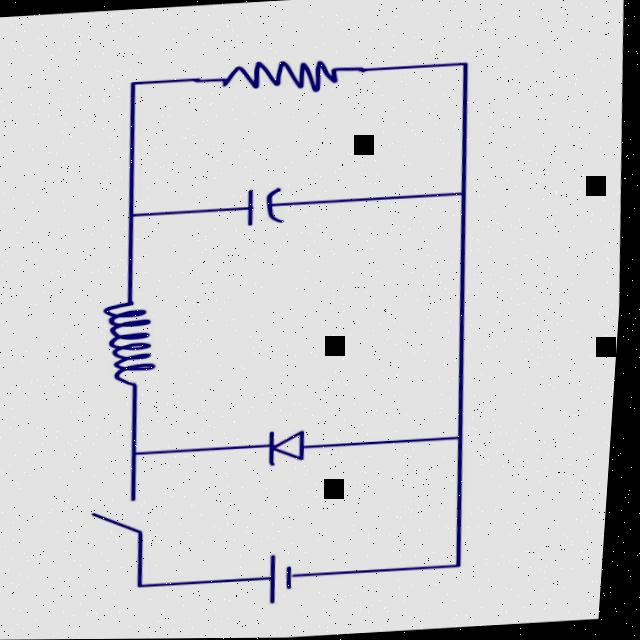capacitor: (225, 175, 307, 240)
diode: (255, 413, 331, 473)
inductor: (84, 283, 192, 392)
resistor: (193, 44, 383, 110)
source: (244, 541, 329, 611)
switch: (79, 480, 177, 558)
